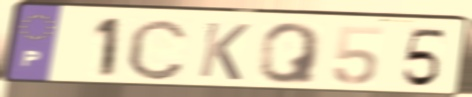1: (90, 15, 124, 80)
5: (330, 24, 387, 87), (400, 26, 449, 88)
C: (123, 16, 191, 83)
K: (195, 20, 253, 83)
Q: (256, 21, 325, 86)
